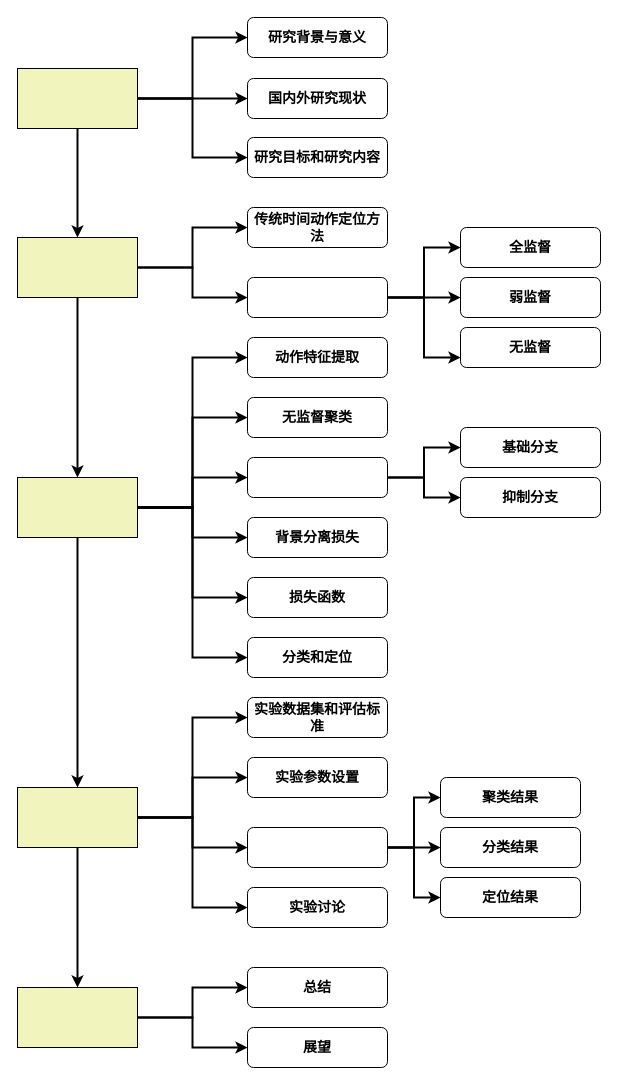
This 618x1085 diagram has some shape labels left out. Here are the shapes that lost their labels. From the top down, the centre of each, then its label:
At (77,98): "第一章：绪论".
At (77,267): "第二章：相关理论与技术基础".
At (317,297): "基于深度学习的时间动作定位方法".
At (317,477): "基于背景抑制网络的视频定位模块".
At (77,507): "第三章：基于背景抑制网络的无监督视频时间动作定位".
At (77,817): "第四章：实验结果与分析".
At (317,847): "实验结果".
At (77,1017): "第五章：总结和展望".
